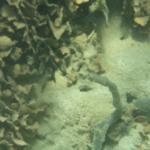alive: (5, 1, 146, 147)
